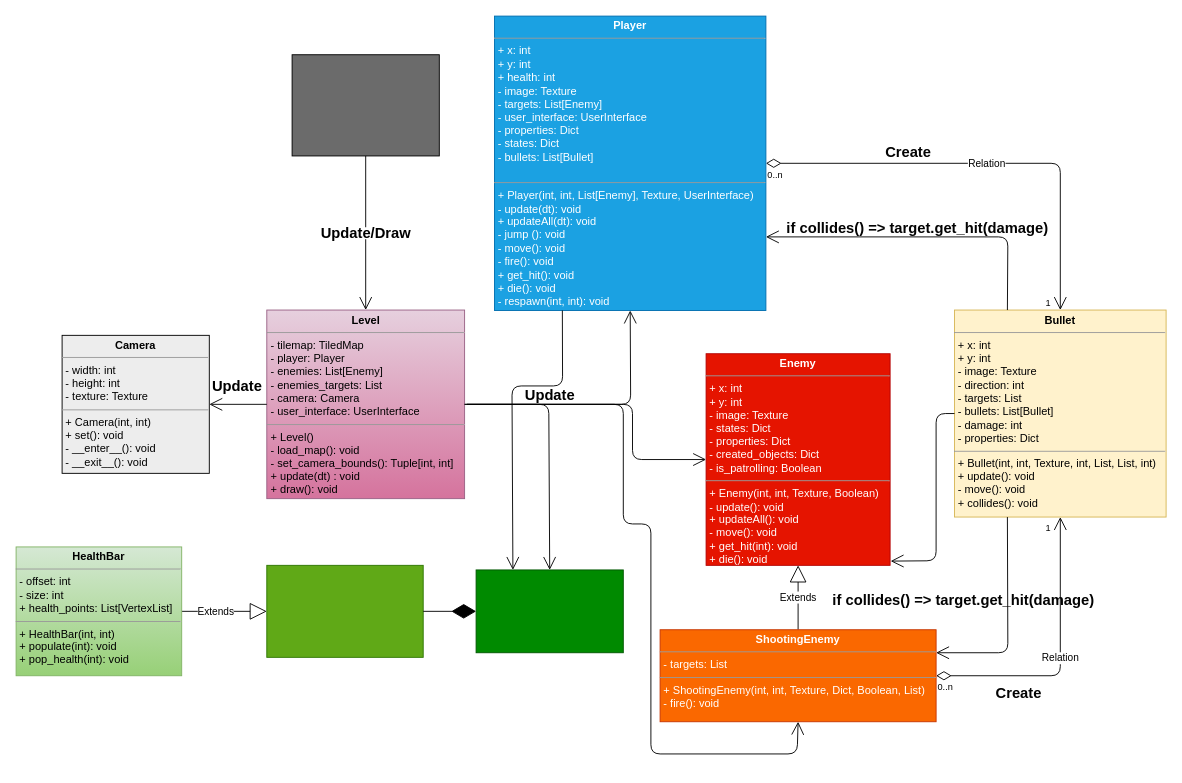
This 1182x783 diagram has some shape labels left out. Each missing label, with the box of its shape:
Game - level: Level + Game() + update(): void + on_draw(): void: (291, 54, 439, 156)
InterfaceComponent - x: int - y: int + InterfaceComponent(int, int): (266, 564, 423, 657)
UserInterface + health_bar: HealthBar + UserInterface(): (475, 569, 623, 653)
